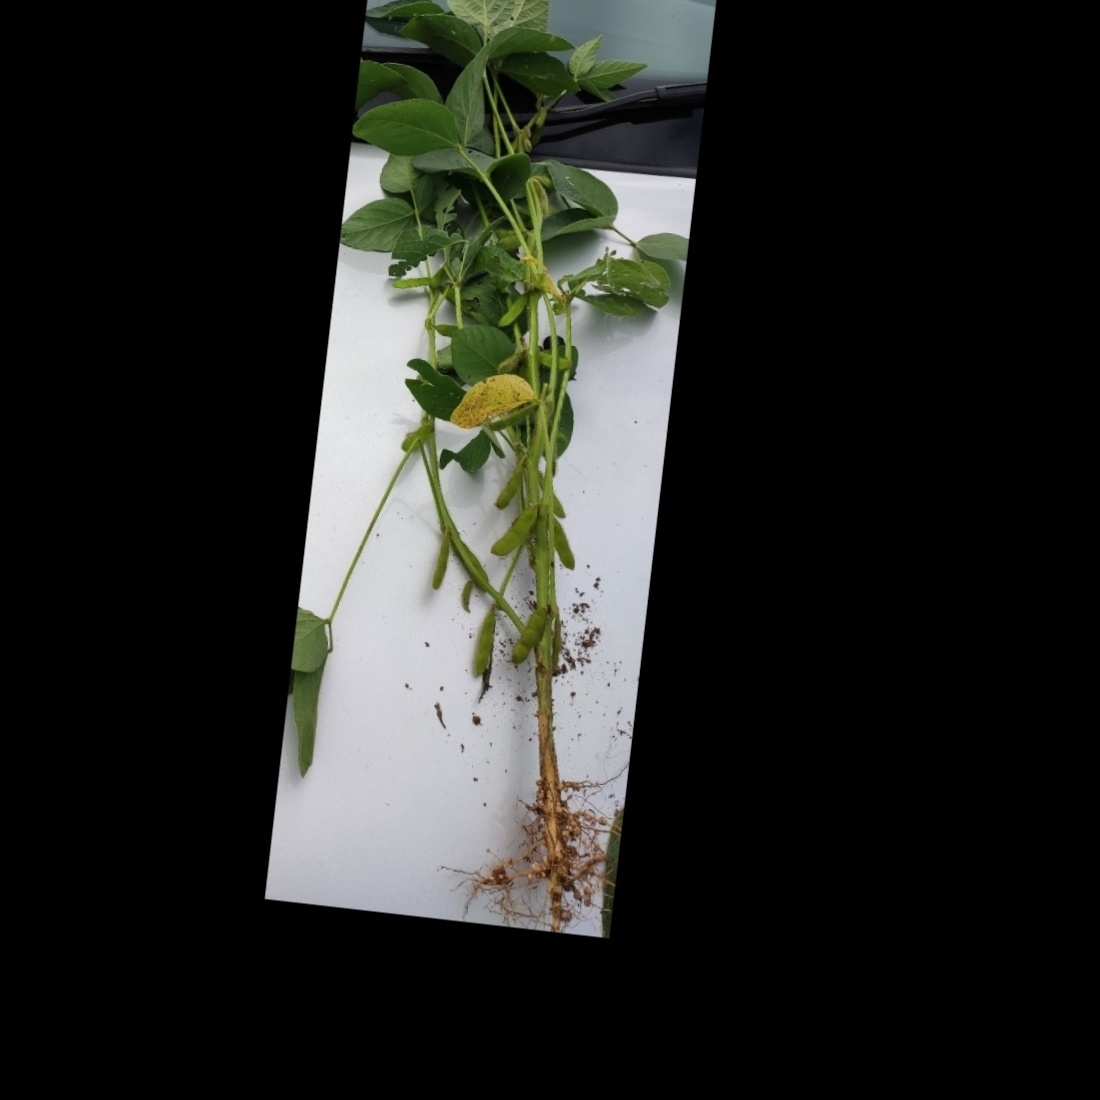pod: (486, 496, 541, 562), (466, 592, 503, 684), (506, 605, 547, 668), (549, 511, 586, 572), (425, 529, 458, 596), (492, 455, 528, 515), (495, 284, 534, 331), (383, 272, 436, 295), (455, 577, 477, 617)
soy: (301, 0, 710, 893)
